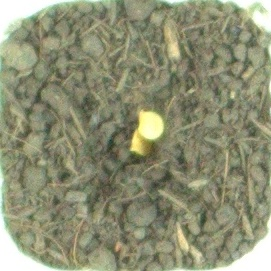chilli seed: (134, 107, 166, 140), (128, 127, 159, 159)
